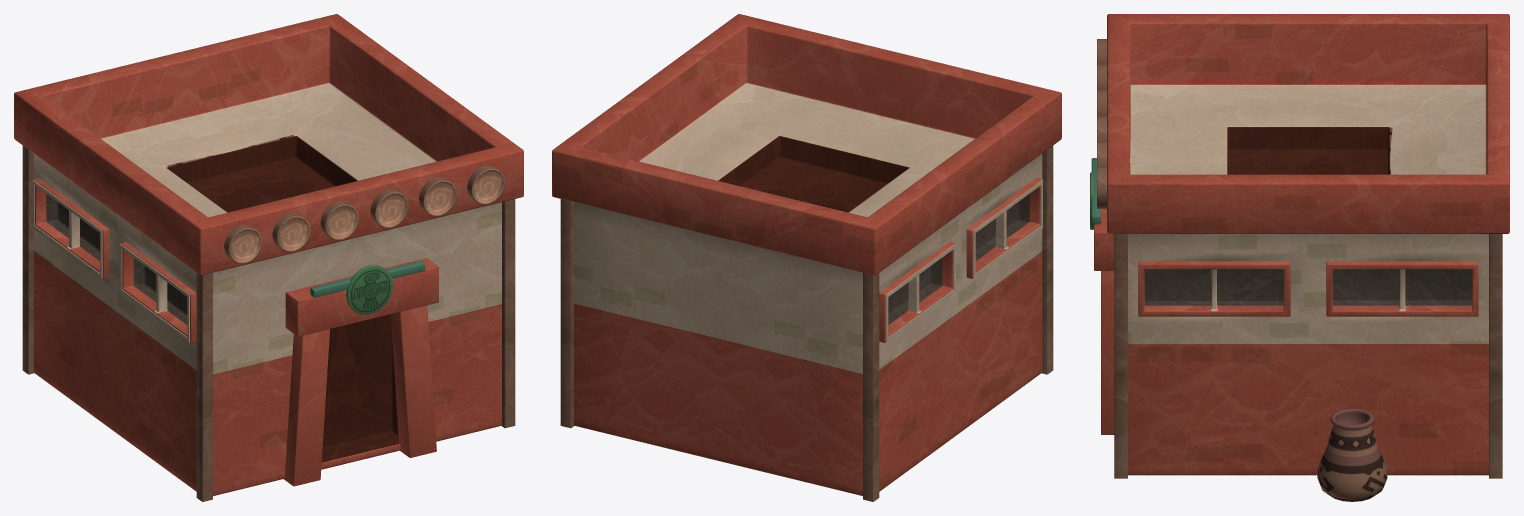
File: ASSETMODEL_VIVIENDA.fbx
3 renders of one model, left to right at view 1: azimuth 30°, elevation 25°; view 2: azimuth 150°, elevation 25°; view 3: azimuth 270°, elevation 25°, orthographic. The views are drawn at different scales.
Visible parts, largest first — view 1: Plane.028; view 2: Plane.028; view 3: Plane.028.
Boxes of the visible parts, box(x1,y1,x2,y2) form: Plane.028: box(14, 14, 523, 501); Plane.028: box(552, 14, 1061, 501); Plane.028: box(1090, 14, 1509, 501).
Size of the model in its own units: 509 by 360 by 459.
